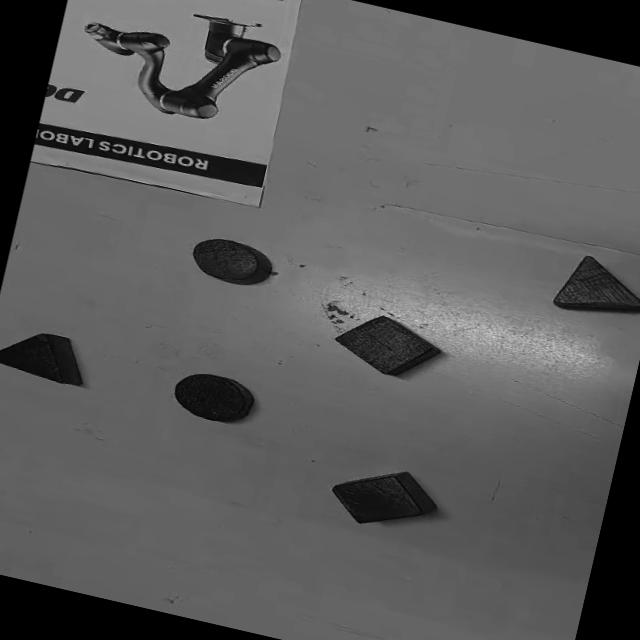bcircle: (167, 365, 257, 429)
bcube: (326, 304, 446, 386)
btriangle: (0, 320, 93, 389)
rcircle: (187, 230, 269, 288)
rcube: (323, 455, 442, 539)
rtriangle: (549, 250, 640, 327)
